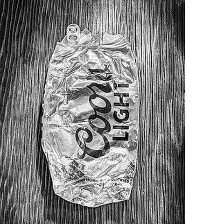can: (34, 19, 150, 214)
